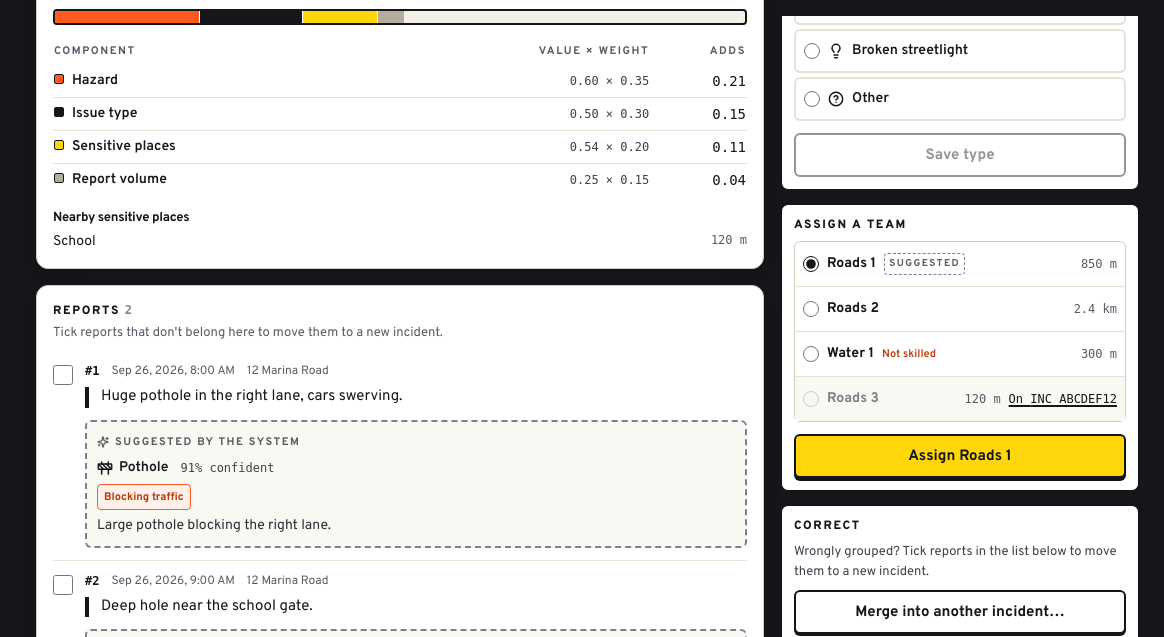
Test case: Incident page: assign › explains team_busy in plain words and refetches
(page scrolled)
What coordinates should you click on to do the following:
click the button "Assign Roads 1"
I would click on:
 (960, 456)
Its box is [794,434,1126,478].
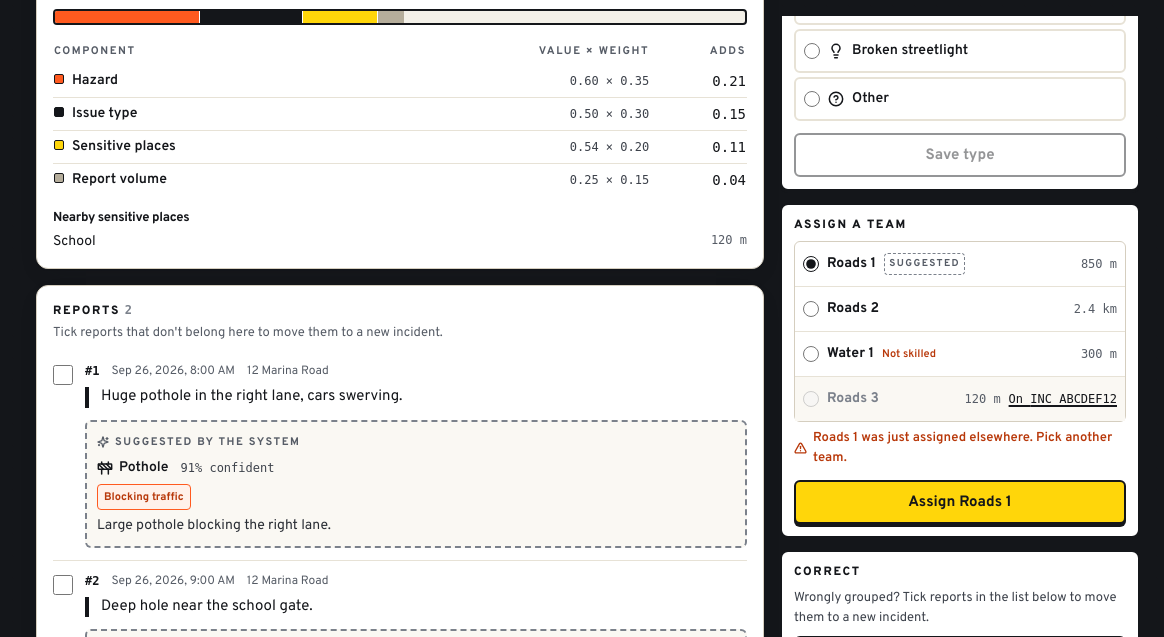
Expected: the message reads "Roads 1 was just assigned elsewhere. Pick another team.", [813,430,1112,466]
